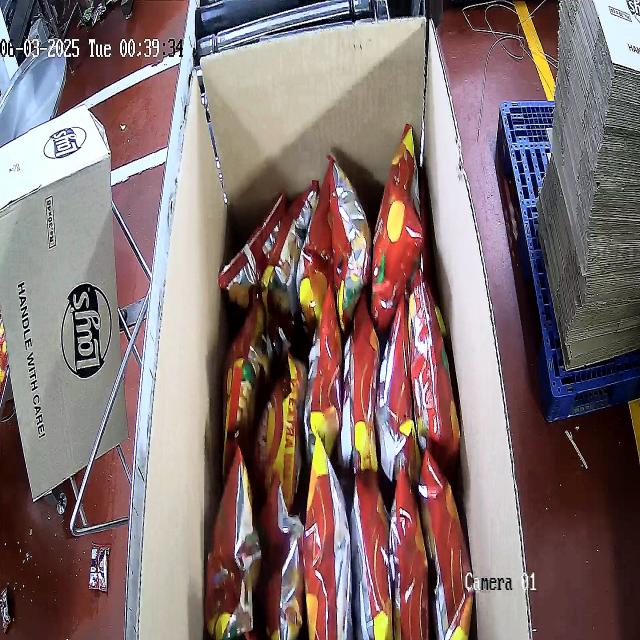MASALA: (204, 123, 475, 638)
